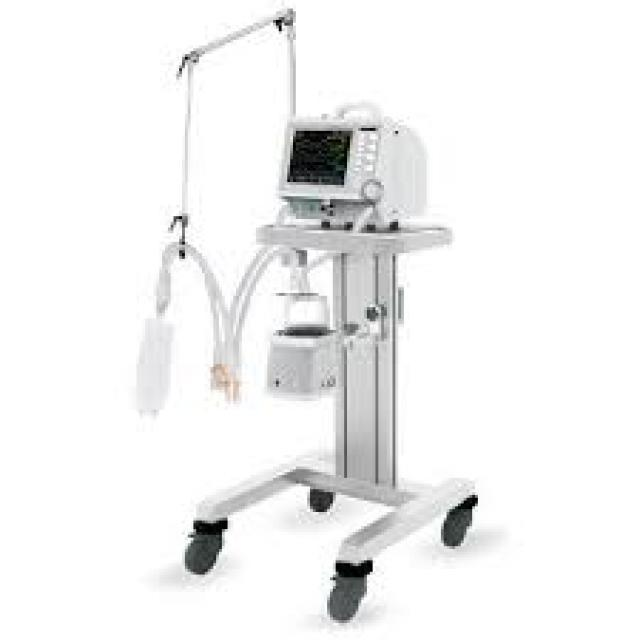ventilator: (147, 11, 486, 606)
